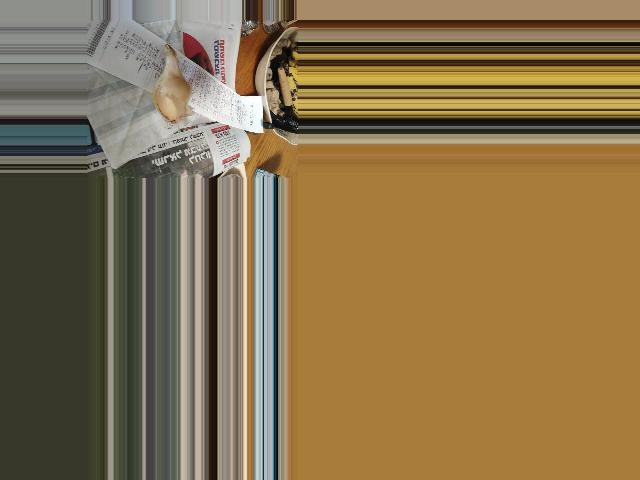onion: (153, 67, 187, 127)
